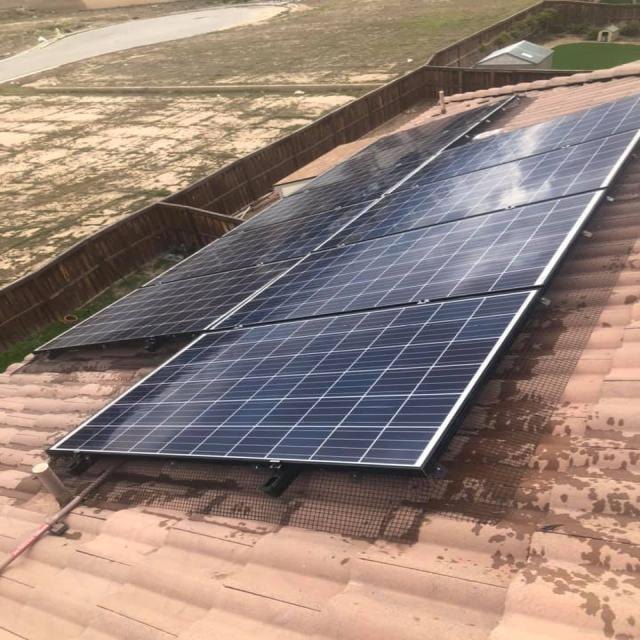clean-solar-panel: (42, 96, 638, 469)
